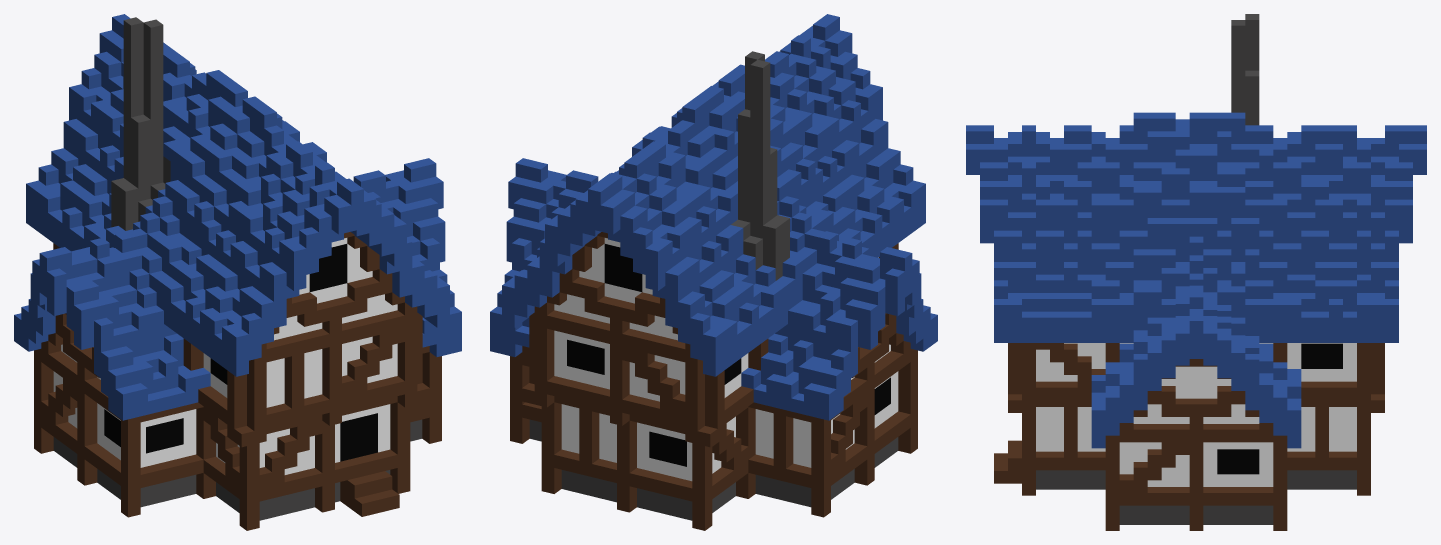
The model's file is house04.fbx.
3 views of the same model, side by side, from view 1: azimuth 30°, elevation 25°; view 2: azimuth 150°, elevation 25°; view 3: azimuth 270°, elevation 25° (orthographic). The views are drawn at different scales.
Visible parts, largest first — view 1: house1-4; view 2: house1-4; view 3: house1-4.
Part boxes in pixels (left/top/right/bottom): house1-4: left=14, top=14, right=461, bottom=530; house1-4: left=490, top=14, right=937, bottom=530; house1-4: left=966, top=14, right=1426, bottom=530.
Bounding box in the file's own units: 3100 × 3200 × 3300.
